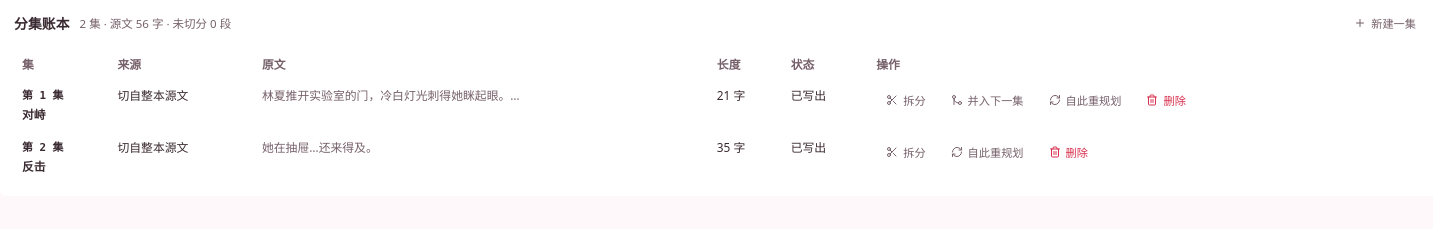
Scenario: EpisodeLedgerTools › says which step is running while the model works, then reports the result
The width and height of the screenshot is (1433, 229).
Later steps or results of the test are not shown.
Click the button with aria-label "合并第 1 集与下一集": x=987, y=100 [941, 86, 1034, 114]
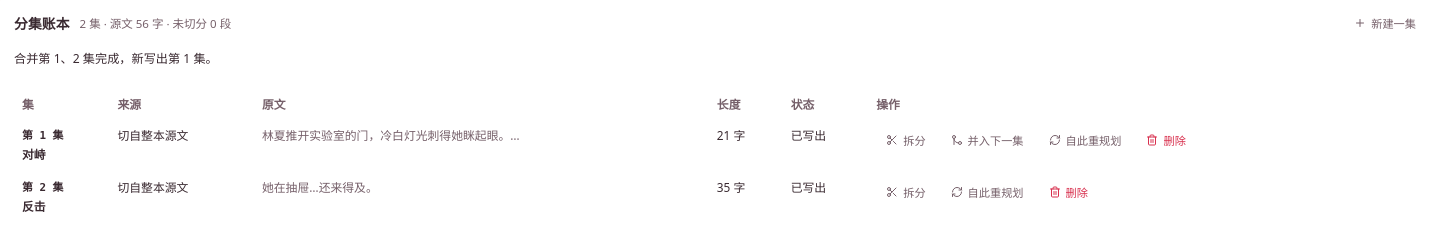
Expected: the button with aria-label "拆分第 1 集" is enabled, [876, 126, 936, 154]
Expected: the message reads "合并第 1、2 集完成，新写出第 1 集。", [14, 50, 218, 67]
